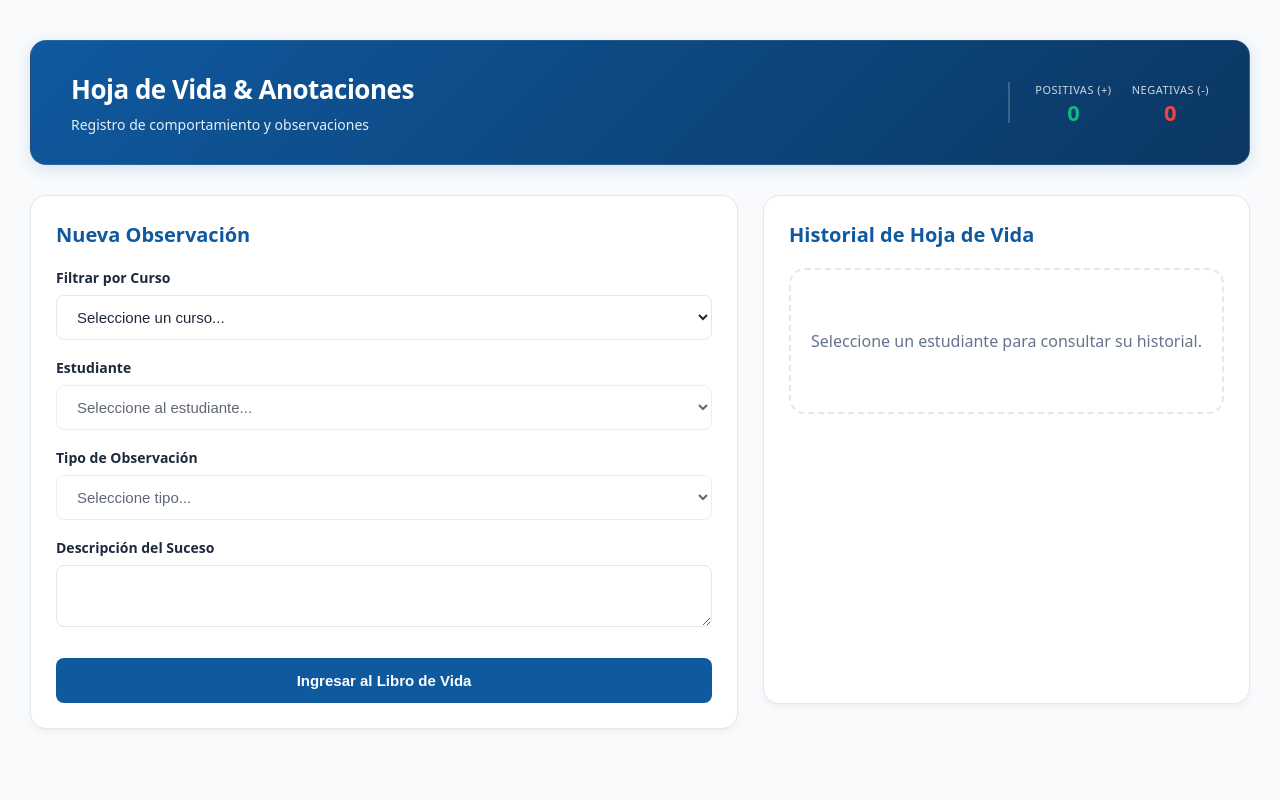
it: Anotaciones › debe registrar una anotación y recargar la hoja de vida del estudiante
Select "1°A" in the dropdown below "Filtrar por Curso" at (384, 318), box [56, 295, 712, 340]
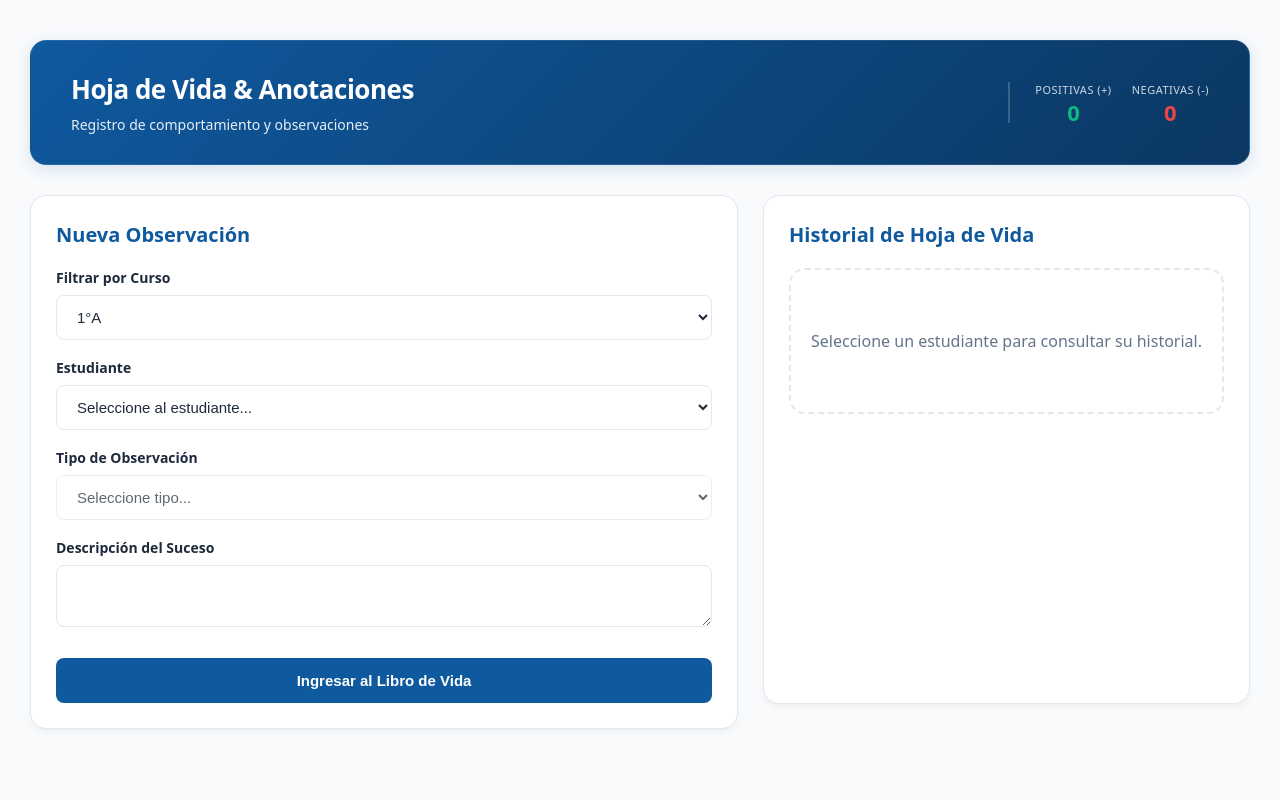
Select "Pérez, Juan" in the 2nd dropdown at (384, 408), box [56, 385, 712, 430]
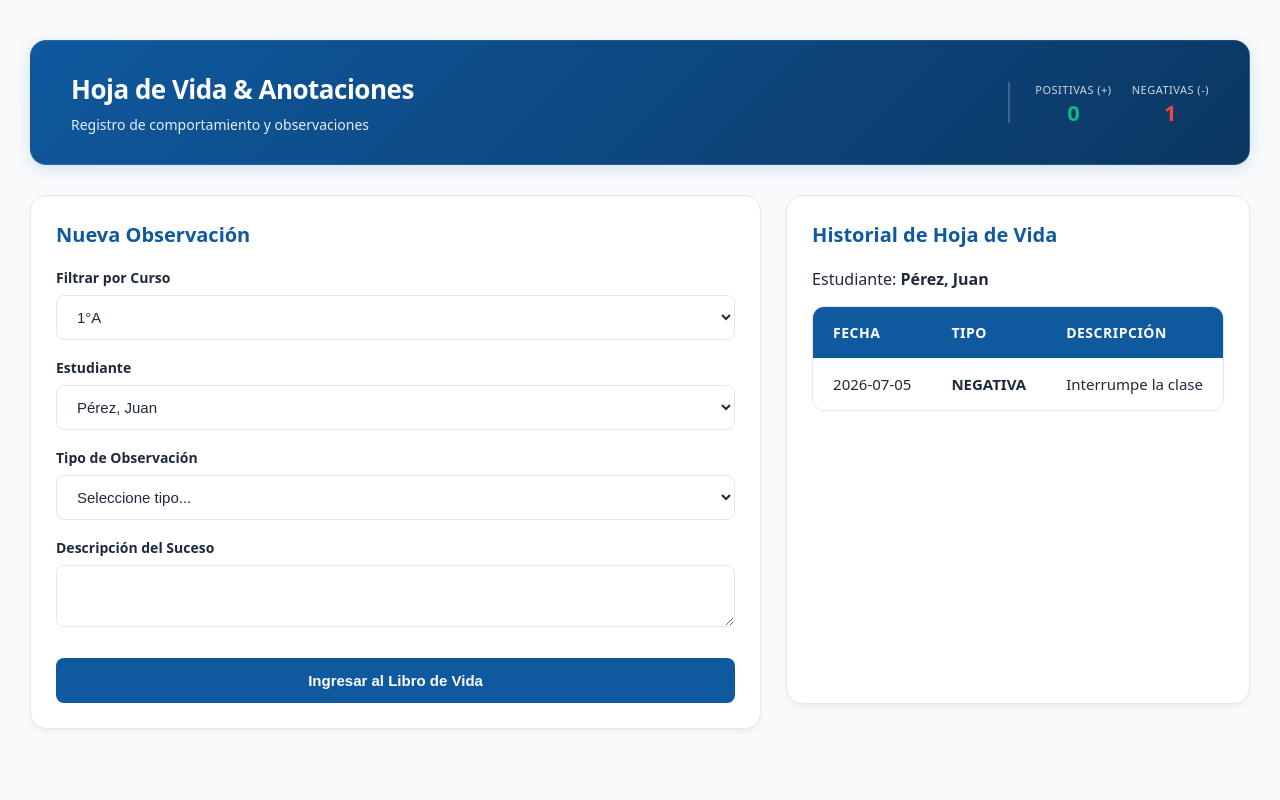
Check: the text "Interrumpe la clase" is shown, box [1046, 358, 1223, 410]
Select "Positiva" in the dropdown below "Tipo de Observación" at (396, 498), box [56, 475, 735, 520]
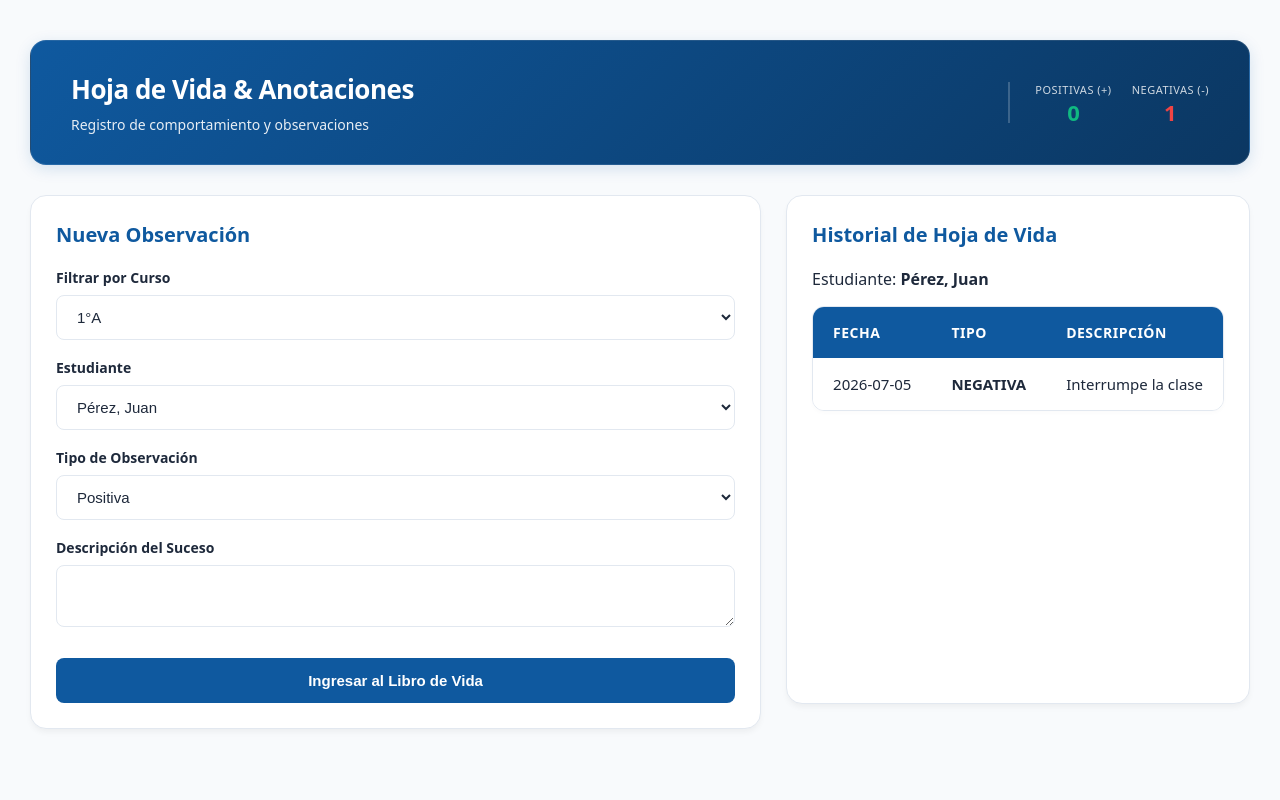
Type "  Excelente comportamiento  " into the text box named "Descripción del Suceso" at (396, 596), box [56, 565, 735, 627]
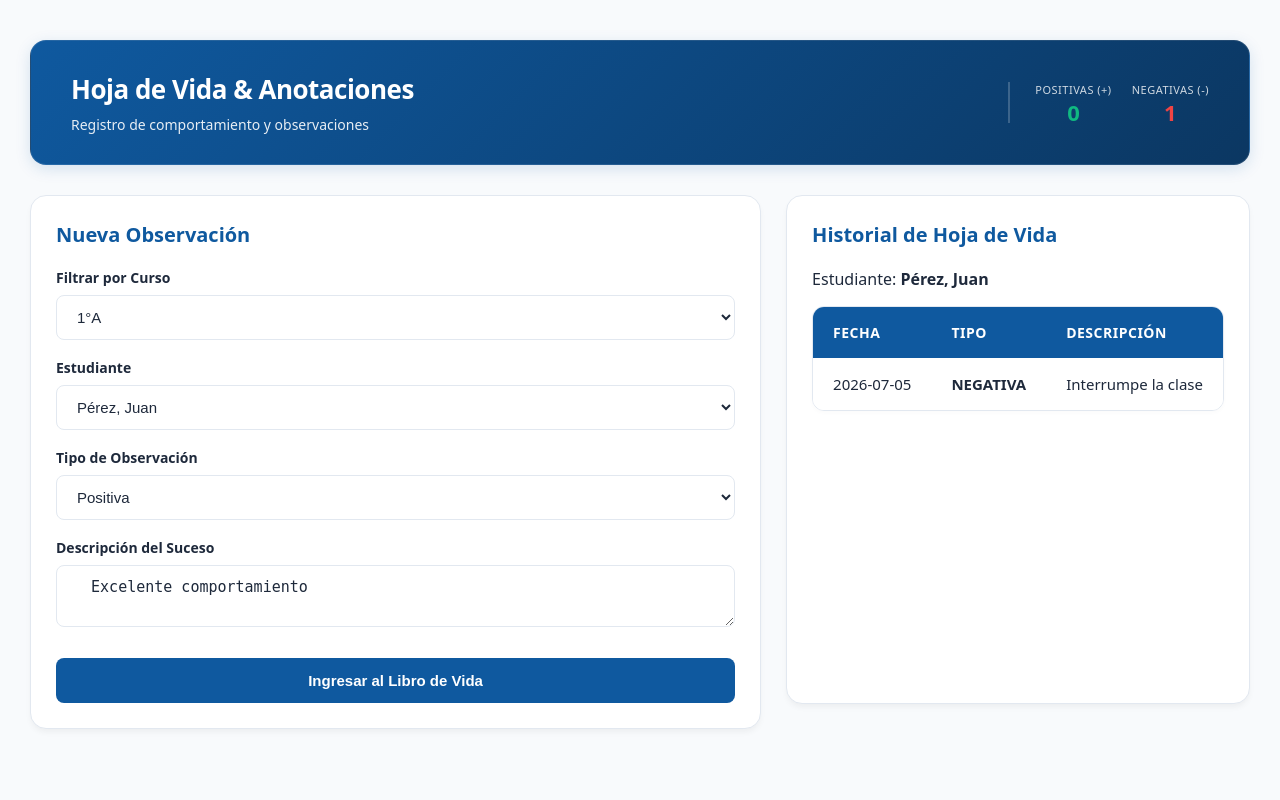
Click the button "Ingresar al Libro de Vida" at (396, 680), box [56, 658, 735, 703]
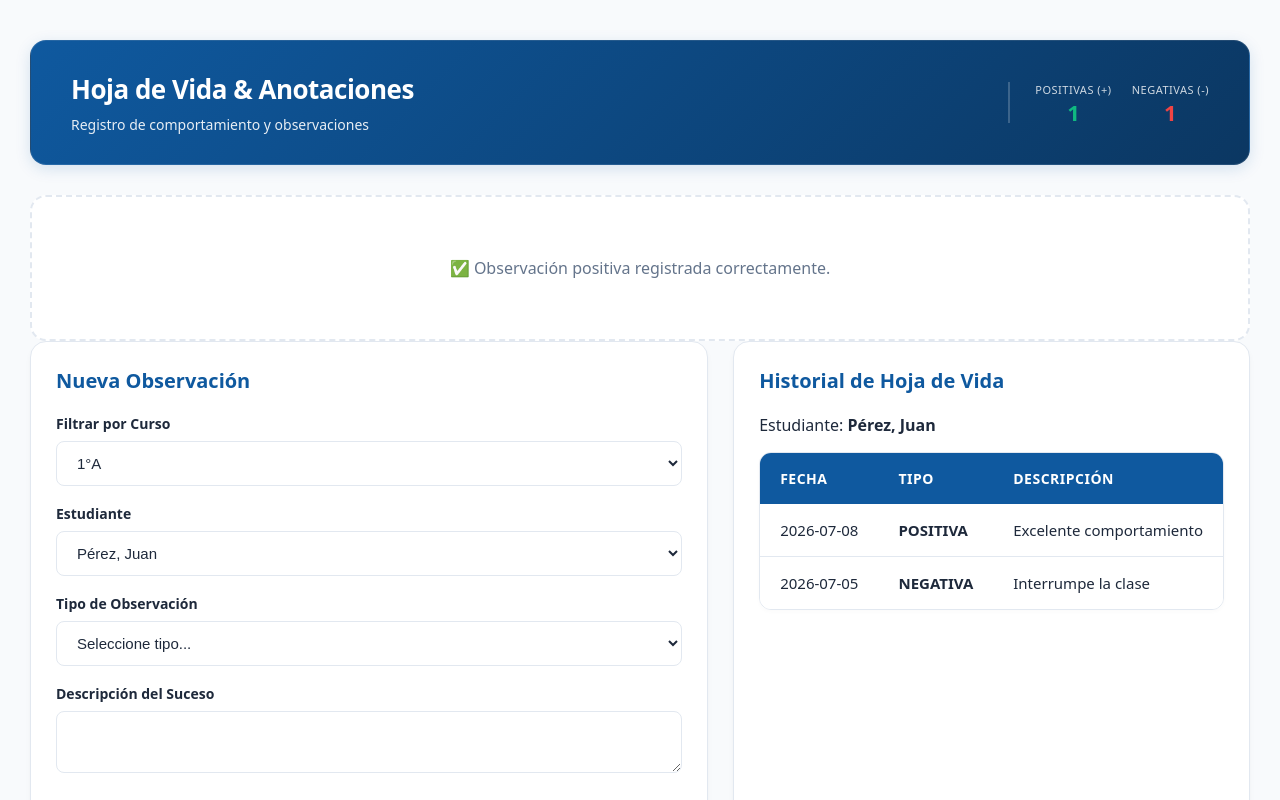
Check: the text "Excelente comportamiento" is shown, box [993, 504, 1223, 556]
Check: the text "✅ Observación positiva registrada correctamente." is shown, box [30, 195, 1250, 341]
Check: the text "1" below "Positivas (+)" is shown, box [1067, 97, 1080, 127]
